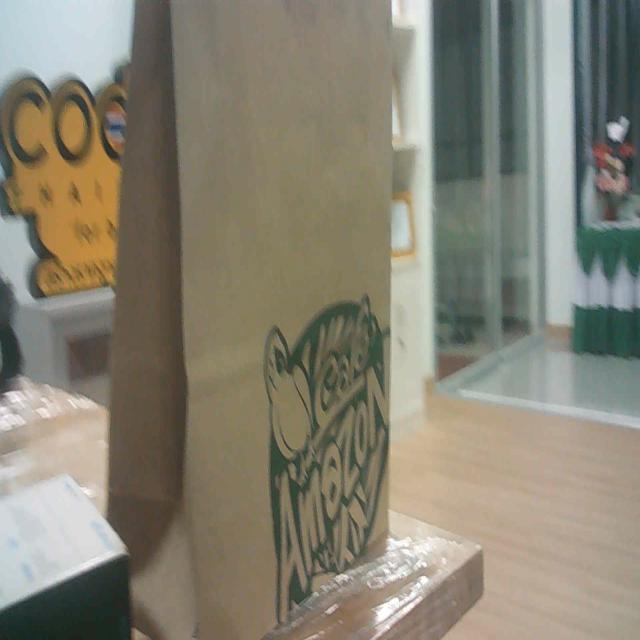bag: (105, 0, 405, 640)
